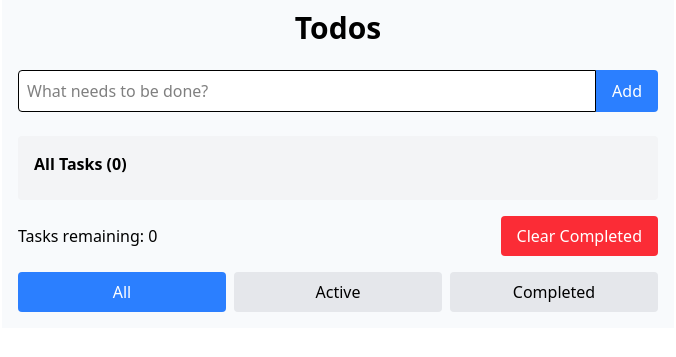
it: Todos › toggles todo status
This screenshot has width=676, height=357.
Type "Learn React" into the field with placeholder "What needs to be done?" at (307, 91), box top-left (18, 70), bottom-right (596, 112)
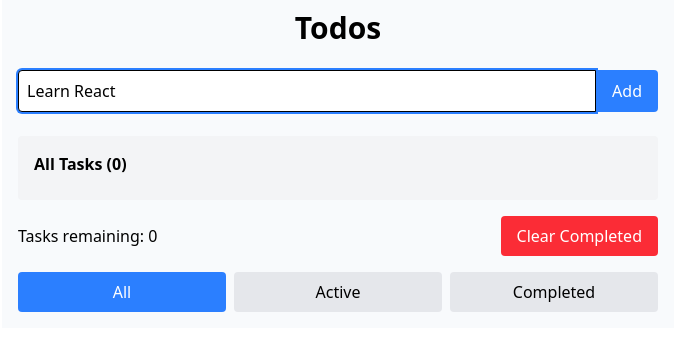
Click the button "Add" at (627, 91), box top-left (596, 70), bottom-right (658, 112)
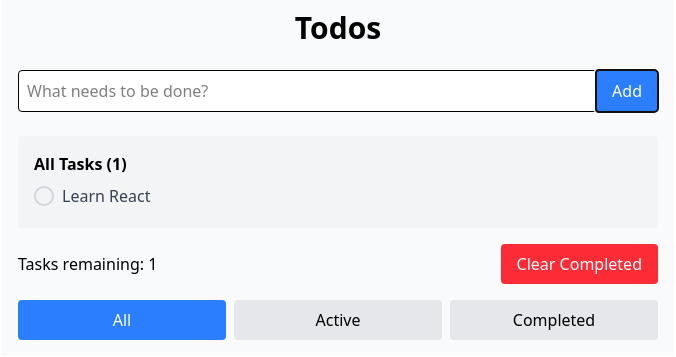
Click the checkbox at (92, 196), box top-left (34, 184), bottom-right (150, 208)
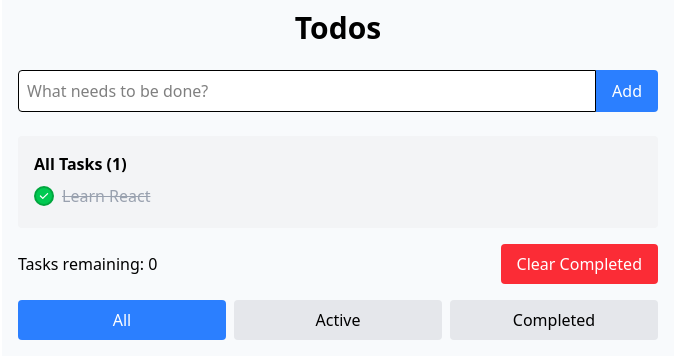
Now the checkbox is checked, box top-left (34, 184), bottom-right (150, 208)
Now the text "Tasks remaining: 0" is shown, box top-left (18, 252), bottom-right (157, 276)
